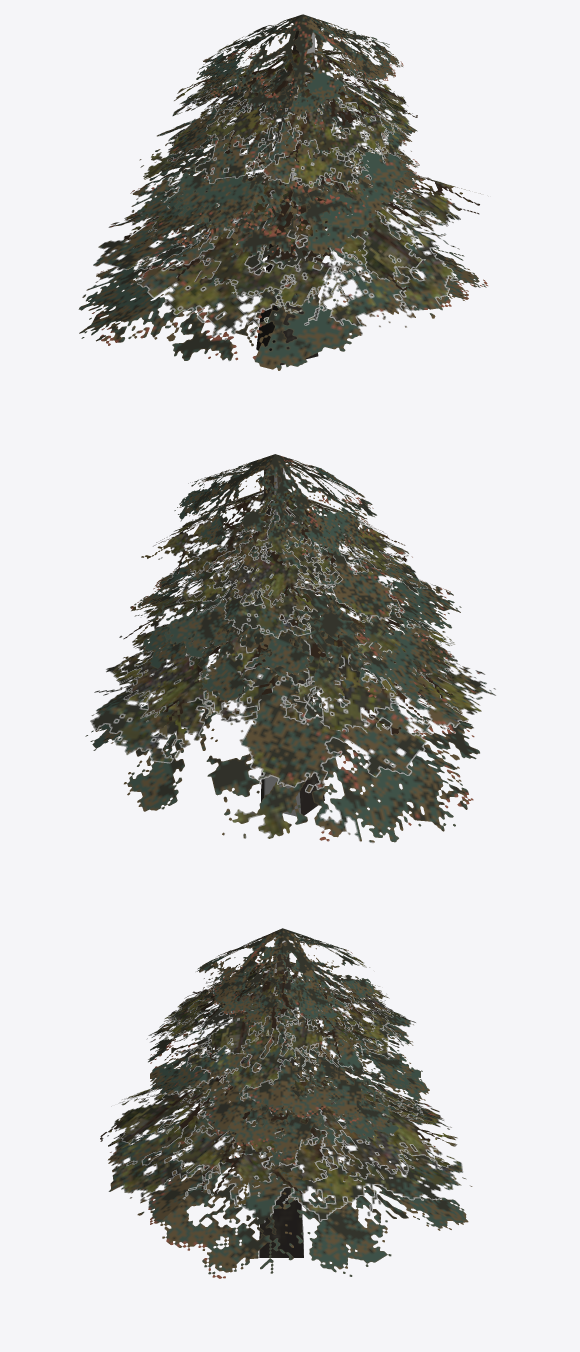
The model's file is bz_tree_01.fbx.
3 views of the same model, one above another, from view 1: azimuth 30°, elevation 25°; view 2: azimuth 150°, elevation 25°; view 3: azimuth 270°, elevation 25° (orthographic). The views are drawn at different scales.
Visible parts, largest first — view 1: bz_tp_tree_01; view 2: bz_tp_tree_01; view 3: bz_tp_tree_01.
Boxes of the visible parts, bbox=[...] form: bz_tp_tree_01: bbox=[78, 14, 487, 370]; bz_tp_tree_01: bbox=[85, 454, 496, 843]; bz_tp_tree_01: bbox=[100, 928, 472, 1278].
Size of the model in its own units: 4.24 by 2.78 by 4.24.
